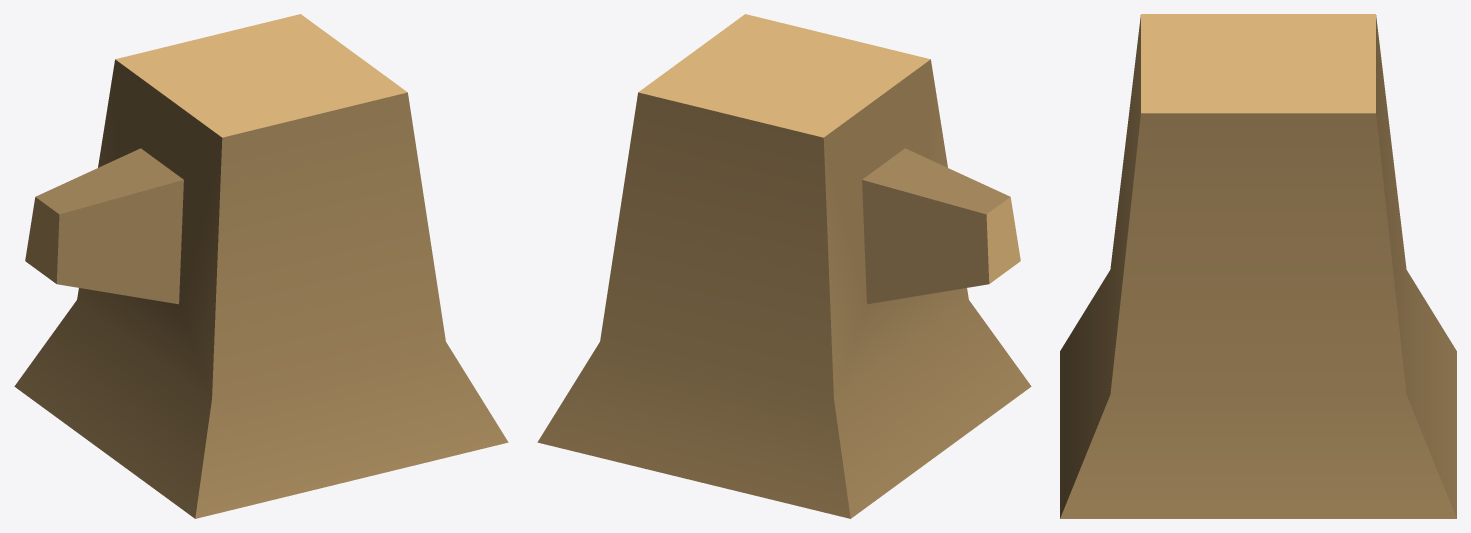
The model's file is Trunk_Alt_02.fbx.
The picture shows the model from 3 angles, left to right: view 1: azimuth 30°, elevation 25°; view 2: azimuth 150°, elevation 25°; view 3: azimuth 270°, elevation 25°; orthographic projection. The views are drawn at different scales.
Parts seen in each view (by area): view 1: Mesh1_Trunk_Alt Model; view 2: Mesh1_Trunk_Alt Model; view 3: Mesh1_Trunk_Alt Model.
Boxes of the visible parts, x1=… form: Mesh1_Trunk_Alt Model: x1=14, y1=14, x2=508, y2=518; Mesh1_Trunk_Alt Model: x1=537, y1=14, x2=1031, y2=518; Mesh1_Trunk_Alt Model: x1=1060, y1=14, x2=1456, y2=518.
Bounding box in the file's own units: 0.9675 × 0.83 × 0.8037.
